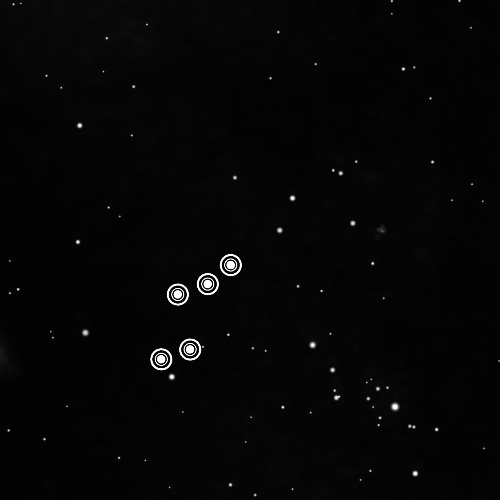lyra: (144, 243, 246, 380)
